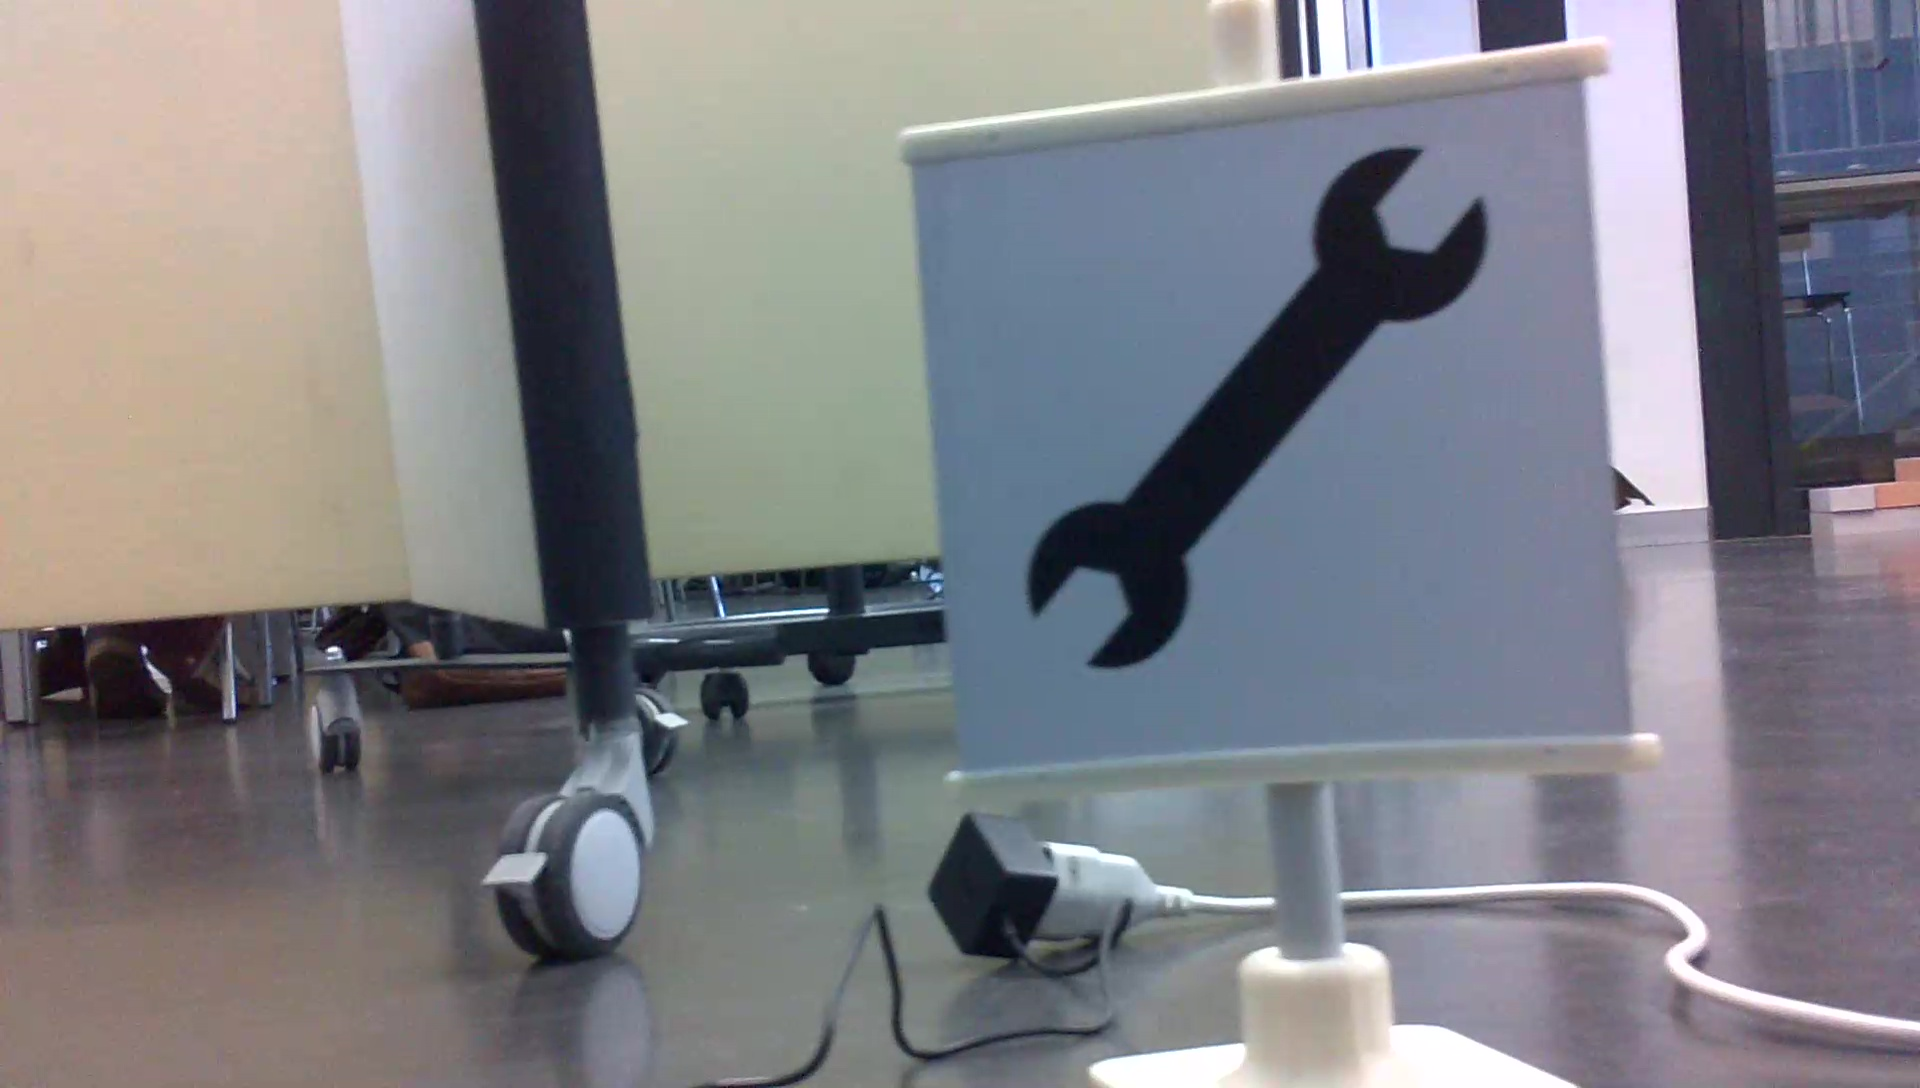wrench: (1013, 133, 1502, 690)
